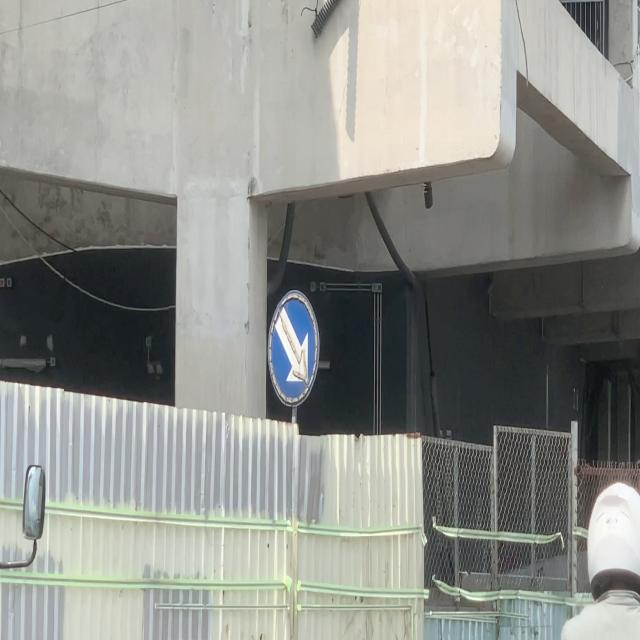Hieu lenh: (266, 286, 322, 410)
